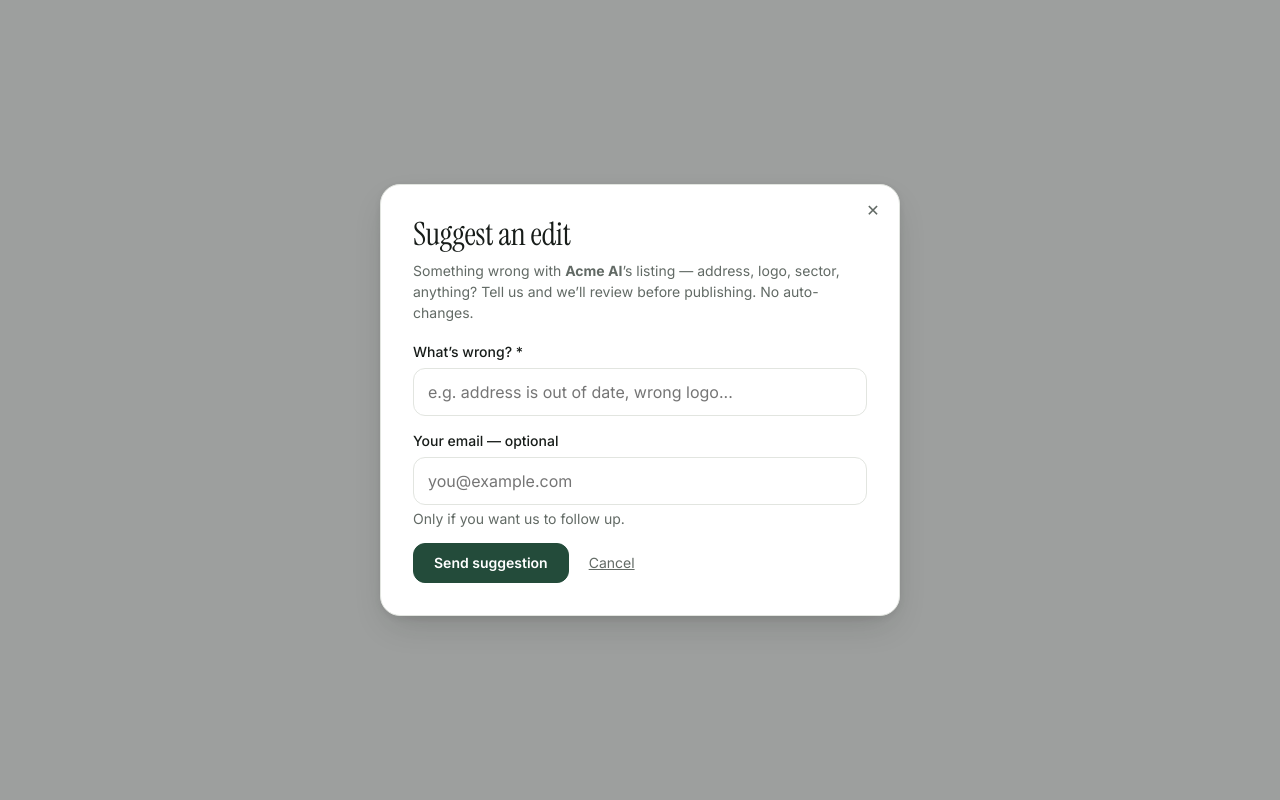
Scenario: SuggestEditForm › submits company, message and email, then shows a thank-you state
This screenshot has width=1280, height=800.
In the field labelled "What’s wrong? *": [640, 392] box [413, 368, 867, 416], type "Address is outdated"
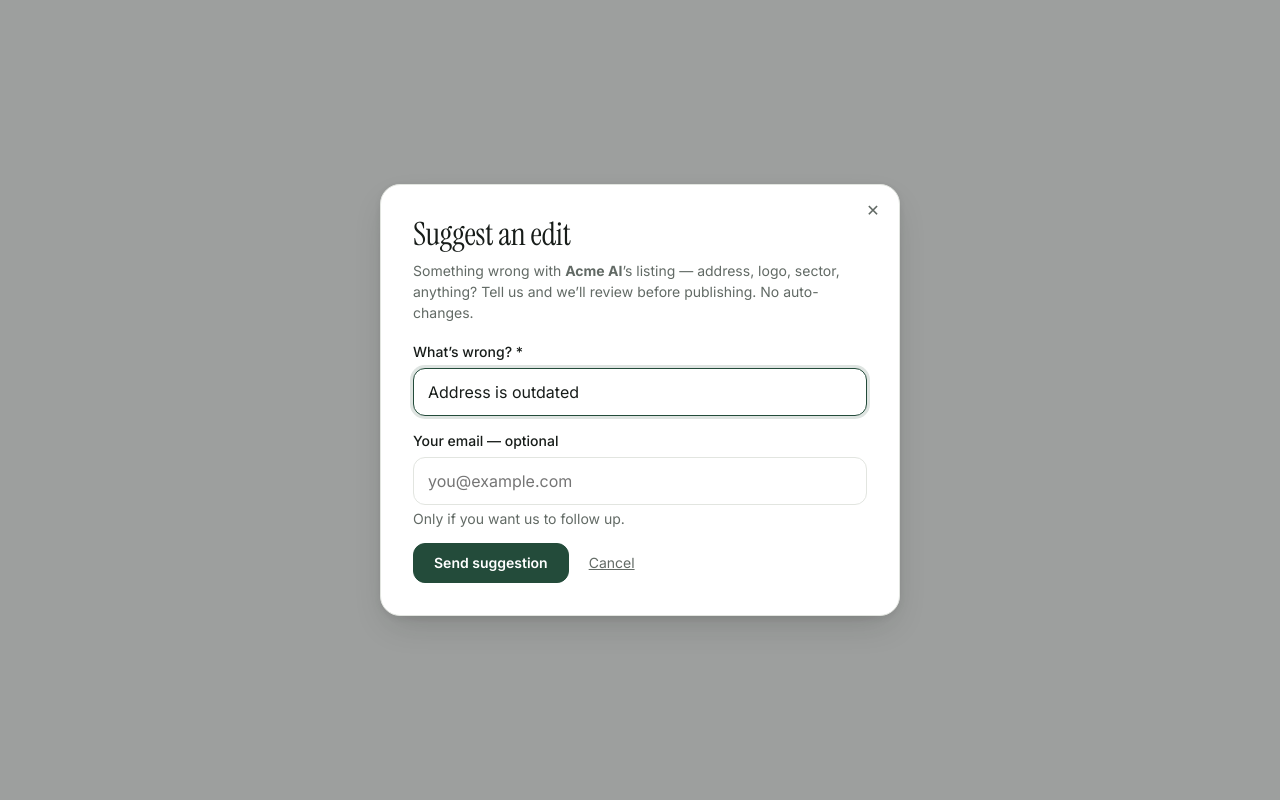
In the field labelled "Your email — optional": [640, 481] box [413, 457, 867, 505], type "me@example.com"
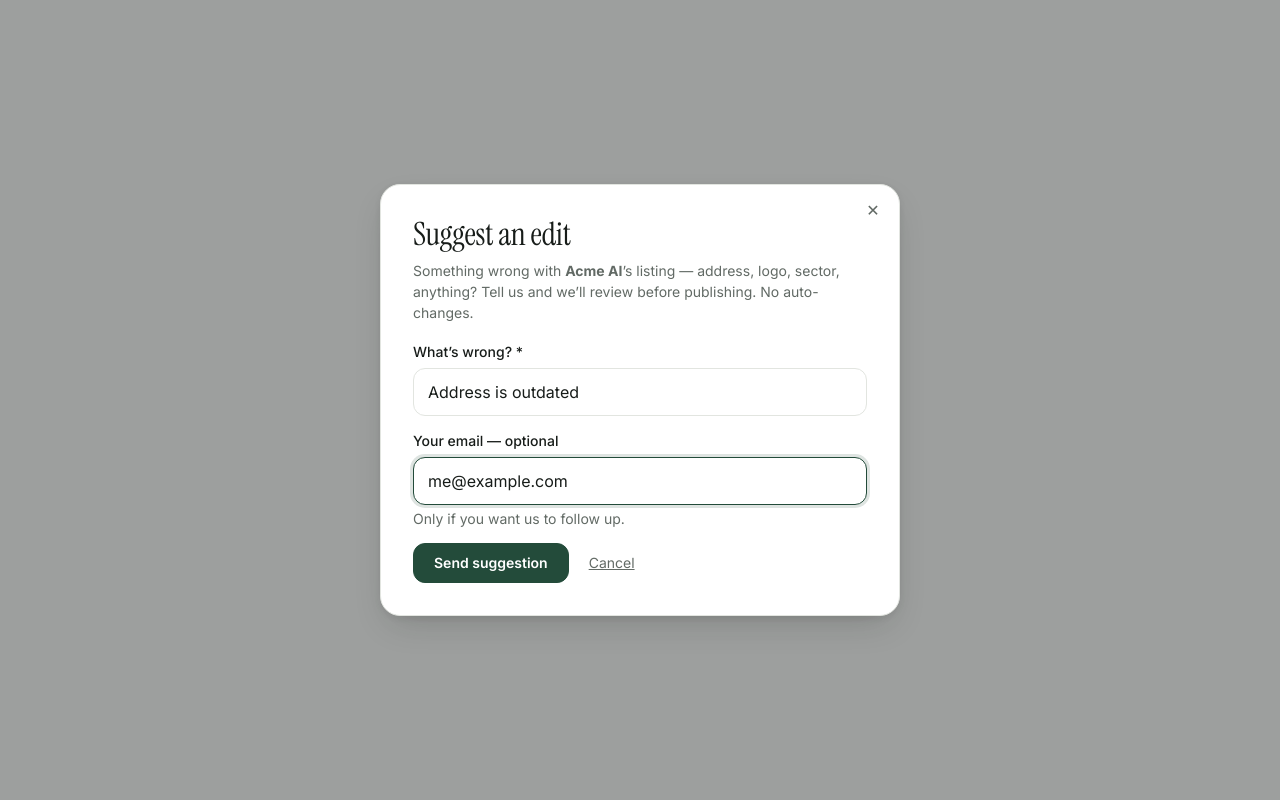
Click the button "Send suggestion": [491, 563] box [413, 543, 569, 583]
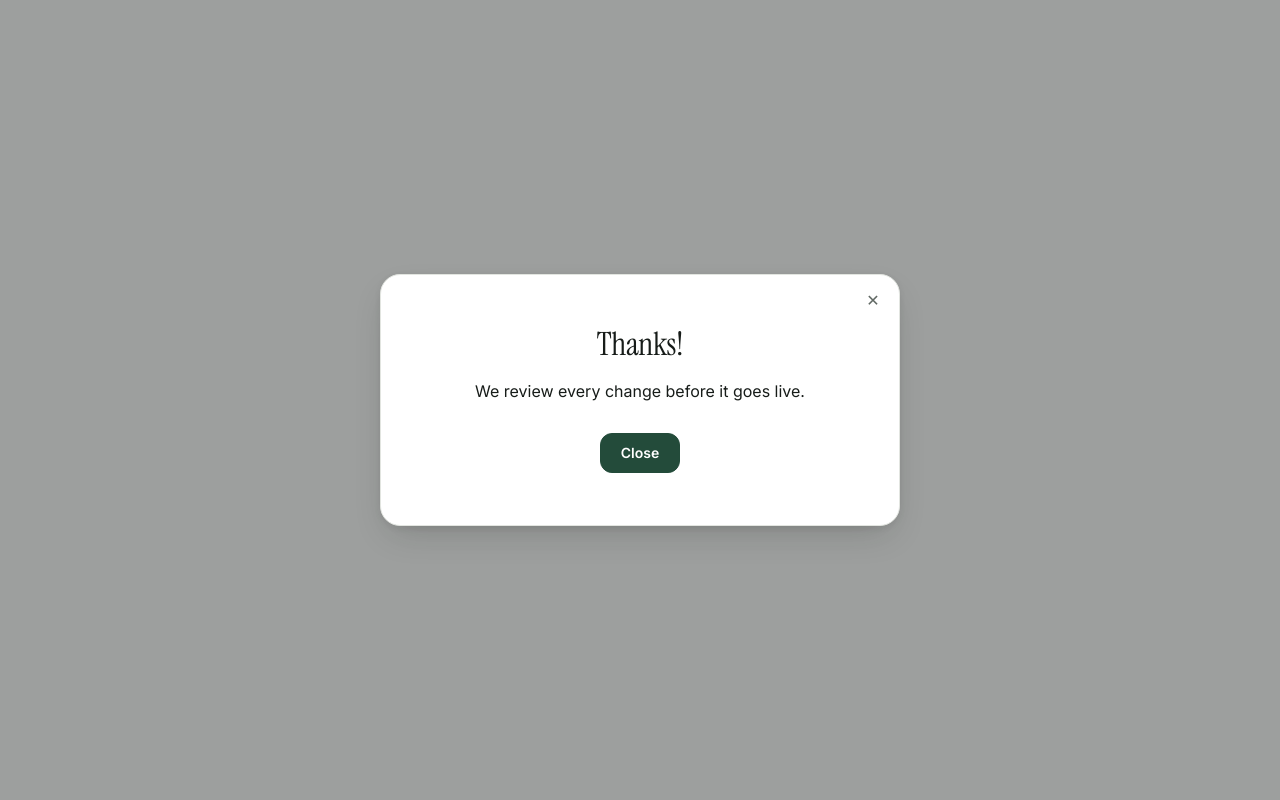
expect the heading "Thanks!" is shown: met, box [597, 323, 683, 365]
